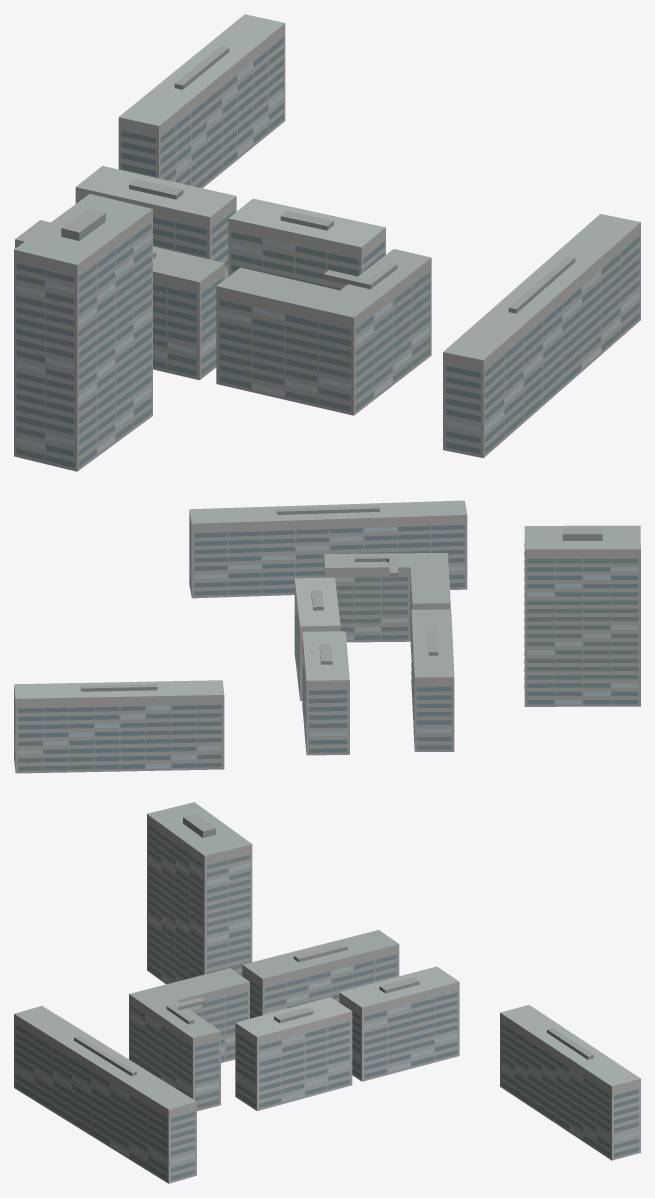
Rendered from apt-a13585401.glb.
3 views of the same model, one above another, from view 1: azimuth 30°, elevation 25°; view 2: azimuth 150°, elevation 25°; view 3: azimuth 270°, elevation 25° (orthographic). The views are drawn at different scales.
Parts seen in each view (by area): view 1: apt-a13585401; view 2: apt-a13585401; view 3: apt-a13585401.
Boxes of the visible parts, x1,y1,x2,y2 form: apt-a13585401: (14, 14, 640, 471); apt-a13585401: (14, 500, 640, 773); apt-a13585401: (14, 802, 640, 1183).
Bounding box in the file's own units: 179 × 60.35 × 210.
